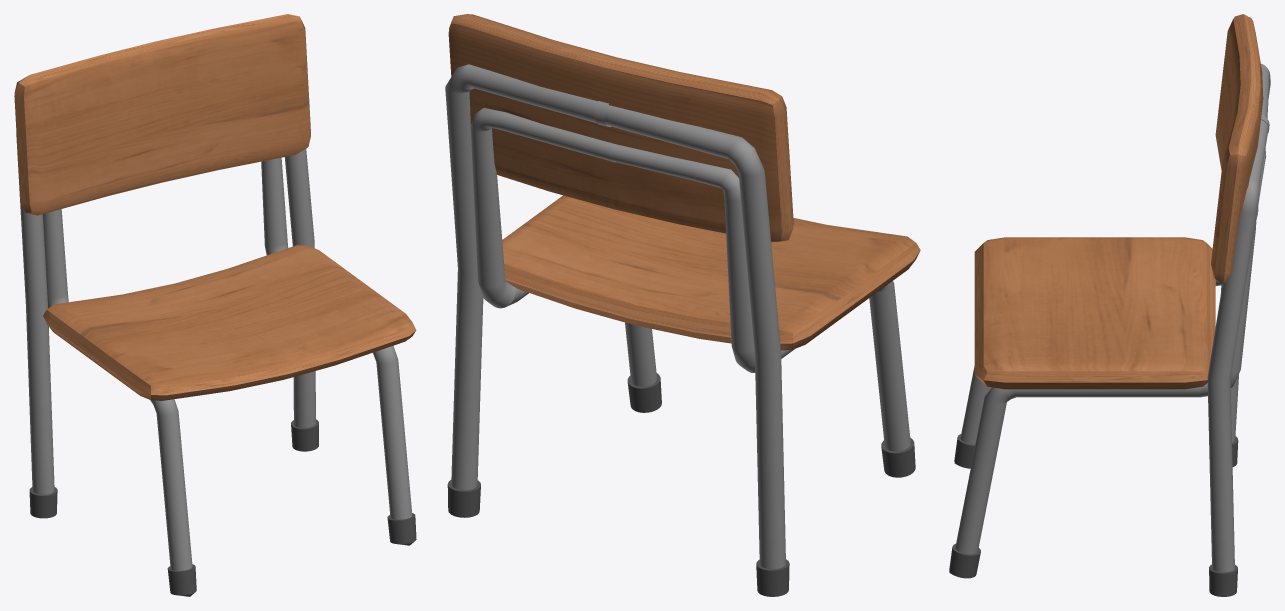
File: deskchair.fbx
The picture shows the model from 3 angles, left to right: view 1: azimuth 30°, elevation 25°; view 2: azimuth 150°, elevation 25°; view 3: azimuth 270°, elevation 25°; orthographic projection. The views are drawn at different scales.
Visible parts, largest first — view 1: pCube5; view 2: pCube5; view 3: pCube5.
Part boxes in pixels (bbox=[...]): pCube5: bbox=[14, 14, 416, 596]; pCube5: bbox=[445, 14, 920, 596]; pCube5: bbox=[949, 14, 1270, 596].
Size of the model in its own units: 3.66 by 5.15 by 3.36.
